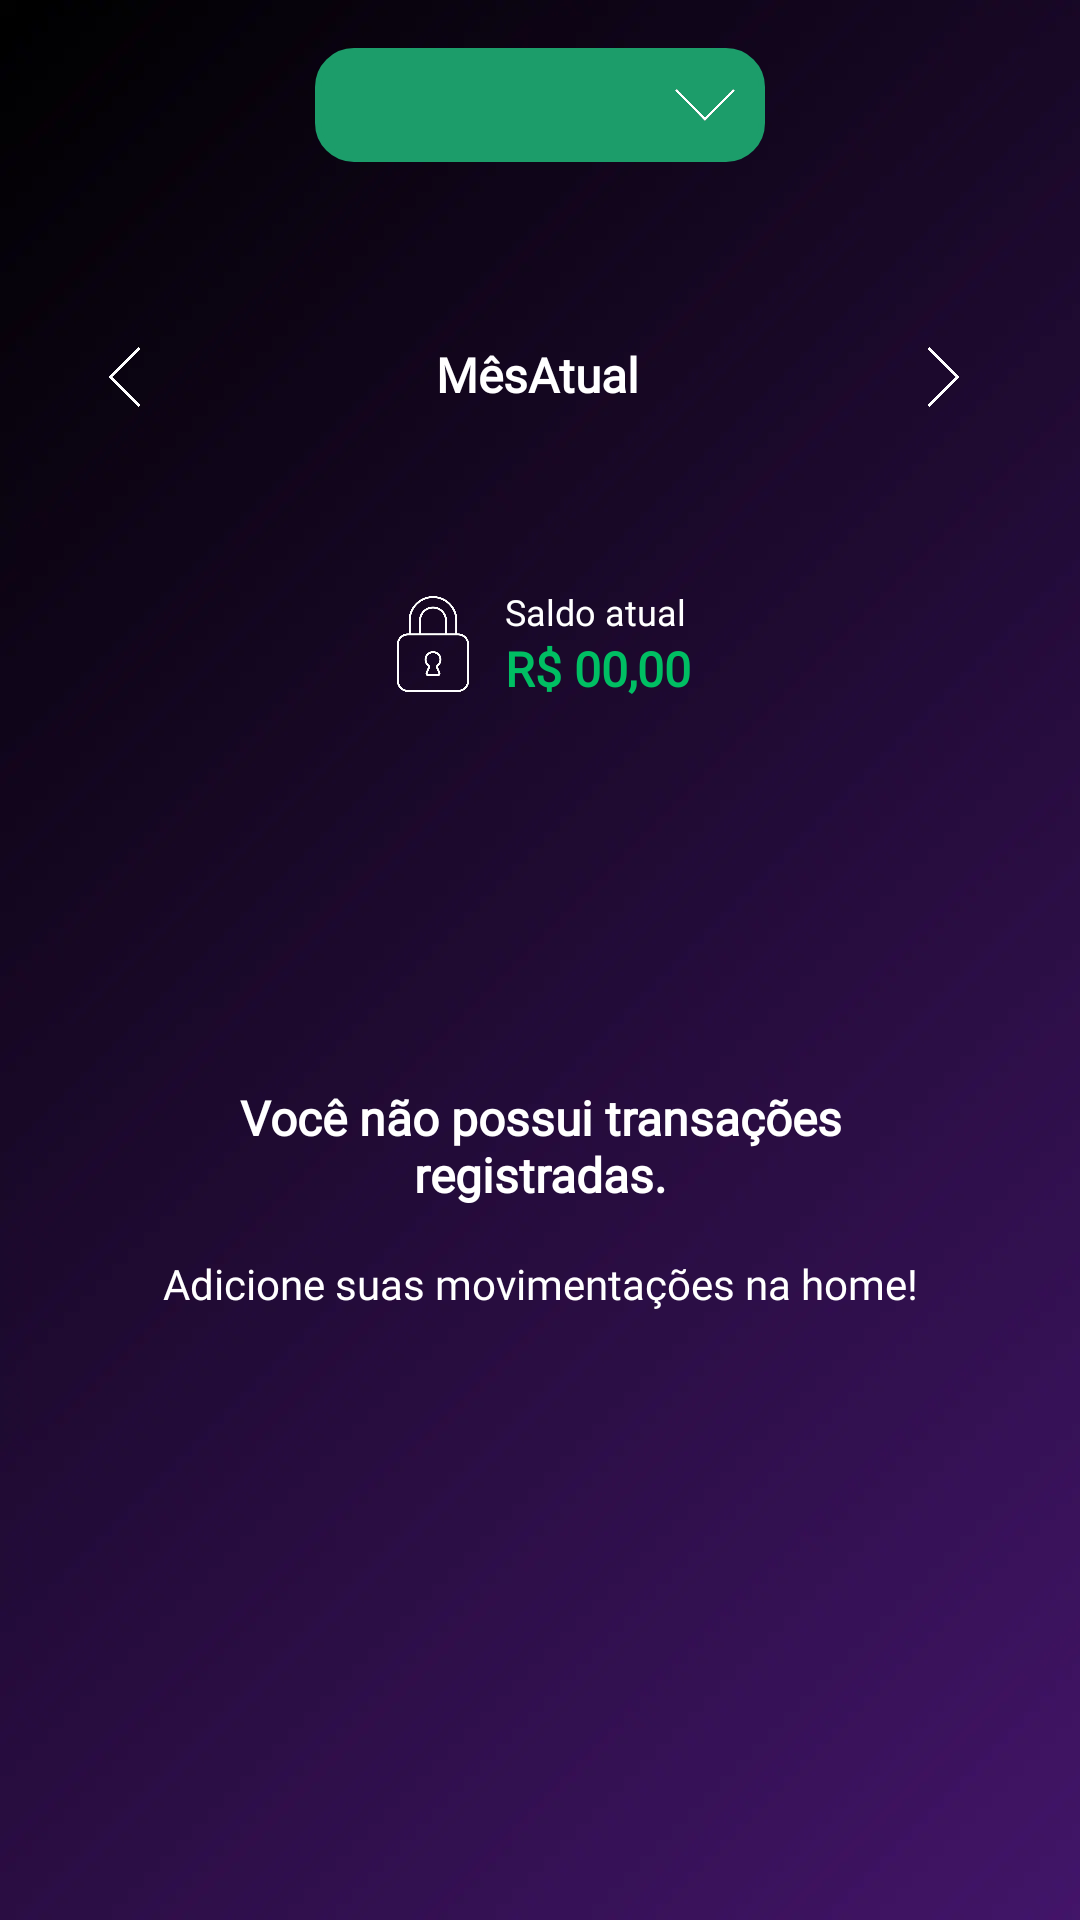

Icon bounding boxes for this 1080 × 1920 phone screenshot, format [x1, y1, x2, y2]:
cadeado: [397, 596, 469, 692]
seta spinner: [675, 89, 735, 121]
